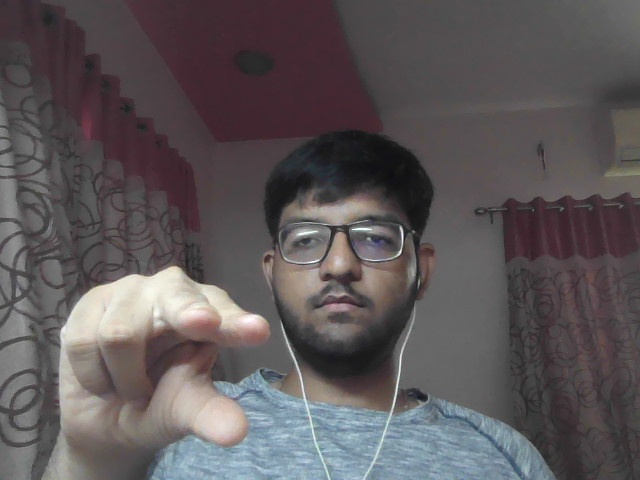ના: (35, 247, 291, 467)
